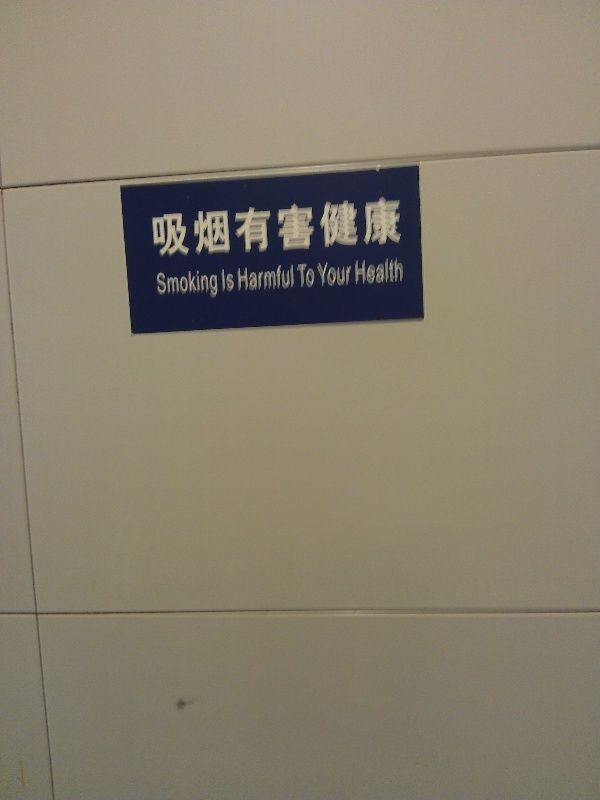text: (161, 197, 176, 257), (177, 197, 192, 257), (193, 197, 208, 257), (209, 197, 224, 257), (225, 197, 240, 257), (241, 197, 256, 257), (257, 197, 272, 257), (273, 197, 288, 257), (289, 197, 304, 257), (305, 197, 320, 257), (321, 197, 336, 257), (337, 197, 352, 257), (353, 197, 368, 257), (369, 197, 384, 257), (385, 197, 400, 257), (150, 197, 160, 257), (161, 269, 176, 302), (177, 269, 192, 302), (193, 269, 208, 302), (369, 257, 384, 286), (385, 257, 400, 286), (354, 257, 368, 286), (241, 265, 256, 292), (257, 265, 272, 292), (273, 265, 288, 292), (337, 262, 353, 287), (321, 262, 336, 287), (209, 269, 220, 302), (305, 264, 317, 288), (225, 268, 235, 292), (296, 264, 304, 288), (289, 265, 295, 292), (156, 269, 160, 302), (401, 197, 403, 257), (401, 257, 405, 286), (237, 265, 240, 292), (317, 262, 320, 287), (221, 268, 224, 292)
